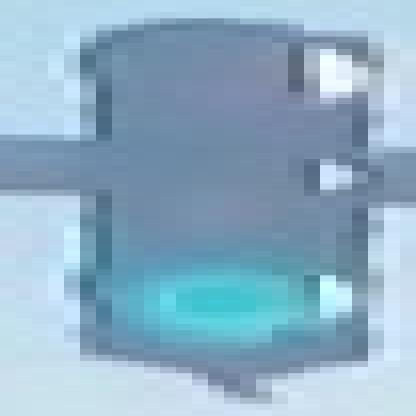Green Light: (81, 18, 376, 370)
